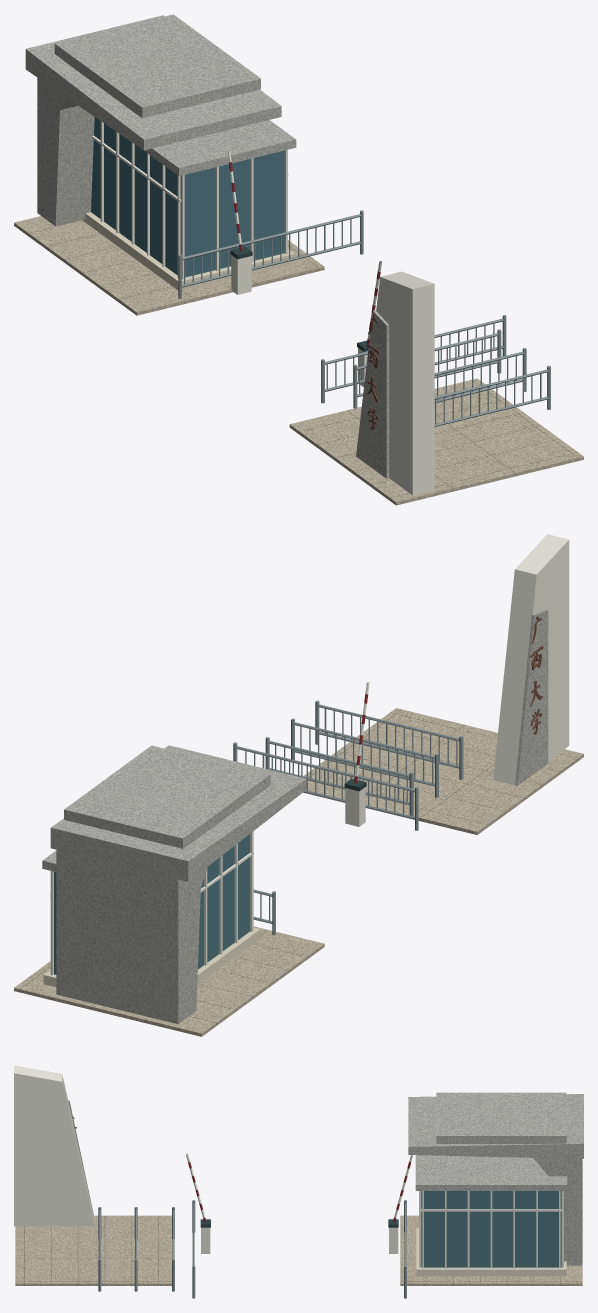
File: west-gate.glb
3 views of the same model, one above another, from view 1: azimuth 30°, elevation 25°; view 2: azimuth 150°, elevation 25°; view 3: azimuth 270°, elevation 25° (orthographic). The views are drawn at different scales.
Visible parts, largest first — view 1: landmark-west-gate; view 2: landmark-west-gate; view 3: landmark-west-gate.
Boxes of the visible parts, left/top/right/bottom form: landmark-west-gate: left=14, top=14, right=583, bottom=505; landmark-west-gate: left=14, top=534, right=583, bottom=1036; landmark-west-gate: left=14, top=1065, right=583, bottom=1298.
Bounding box in the file's own units: 7.36 × 6.51 × 21.25.
9 materials, 2 textured.
